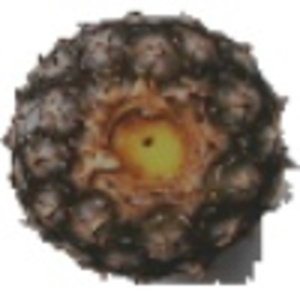abacaxi: (5, 11, 283, 275)
